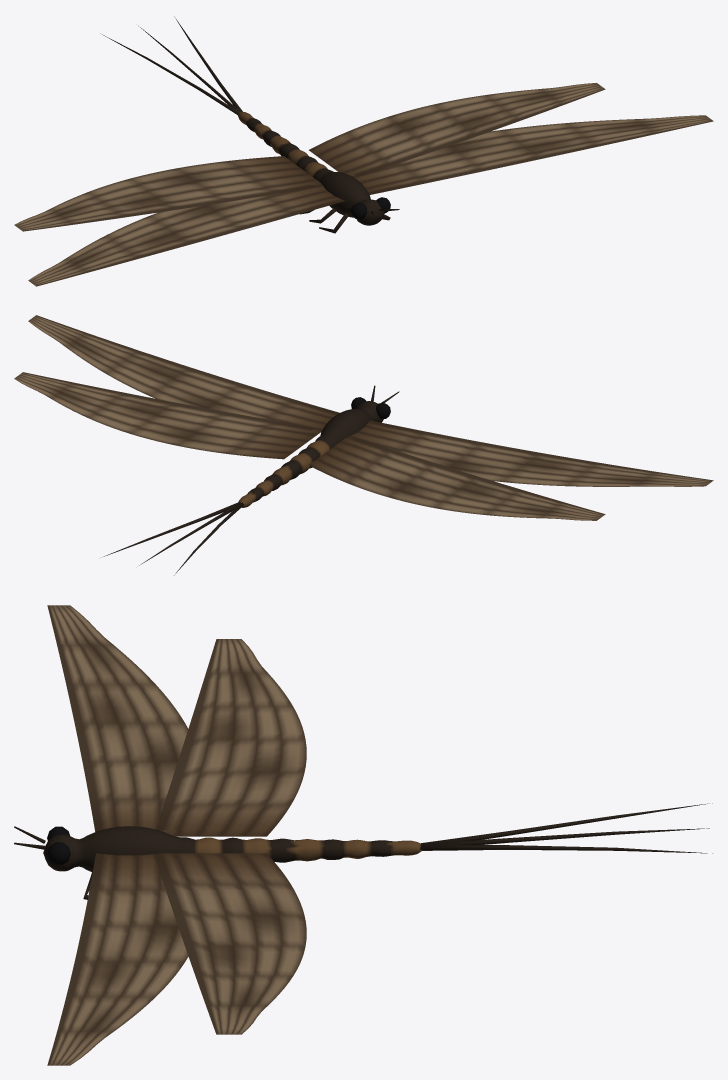
File: Bojophlebia.fbx
3 views of the same model, one above another, from view 1: azimuth 30°, elevation 25°; view 2: azimuth 150°, elevation 25°; view 3: azimuth 270°, elevation 25° (orthographic). The views are drawn at different scales.
Parts seen in each view (by area): view 1: Bojophlebia; view 2: Bojophlebia; view 3: Bojophlebia.
Part boxes in pixels (box(x1,y1,x2,y2)): Bojophlebia: box(14, 16, 713, 286); Bojophlebia: box(14, 315, 713, 575); Bojophlebia: box(14, 605, 712, 1065).
Bounding box in the file's own units: 2 × 0.1323 × 1.29.
